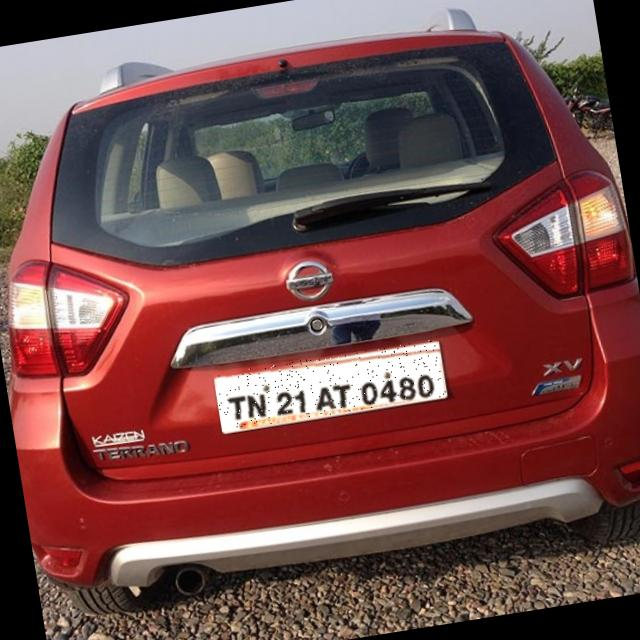Plate: (215, 340, 449, 433)
